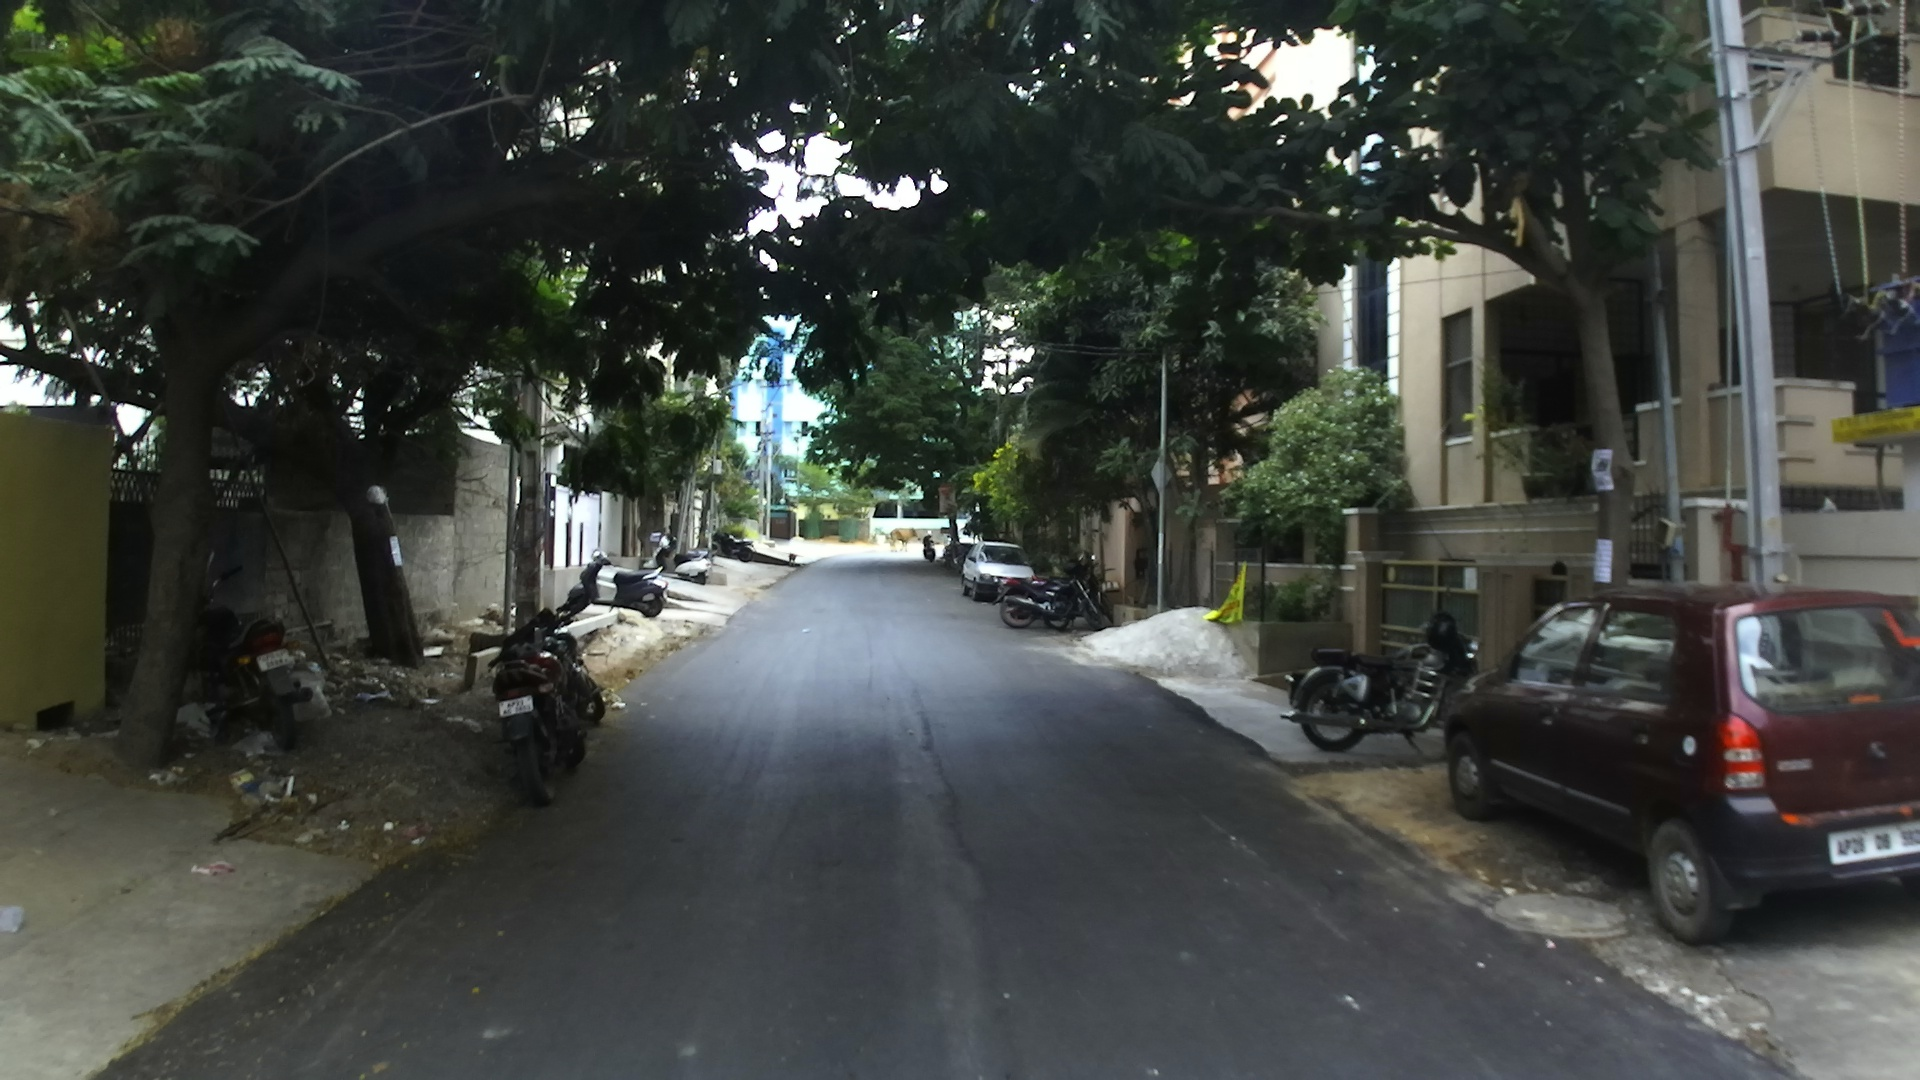vehicle: (1443, 580, 1919, 951), (1287, 613, 1474, 754), (488, 615, 607, 804), (572, 556, 667, 621), (1000, 574, 1104, 632), (959, 545, 1036, 601)
